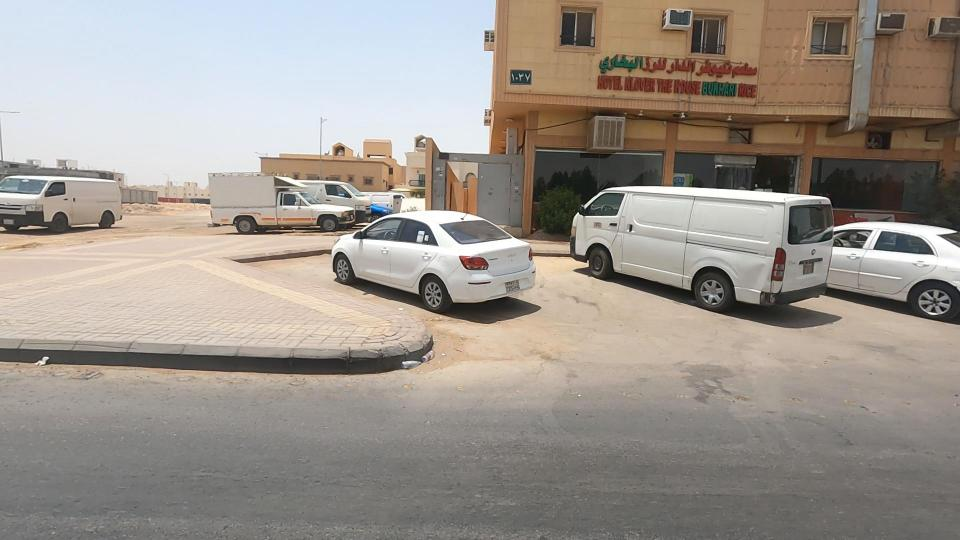GARBAGE: (359, 325, 463, 393), (1, 339, 79, 385)
